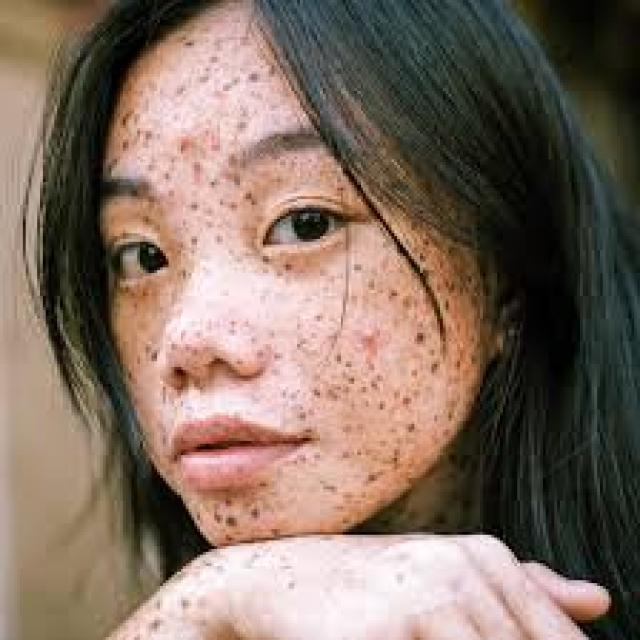Acne: (256, 288, 461, 438), (108, 59, 264, 154), (114, 345, 174, 391)
